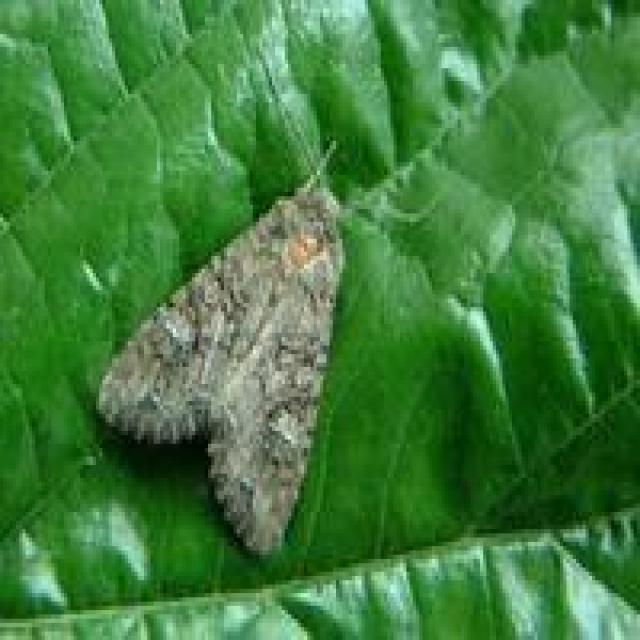armyworm: (105, 160, 354, 573)
